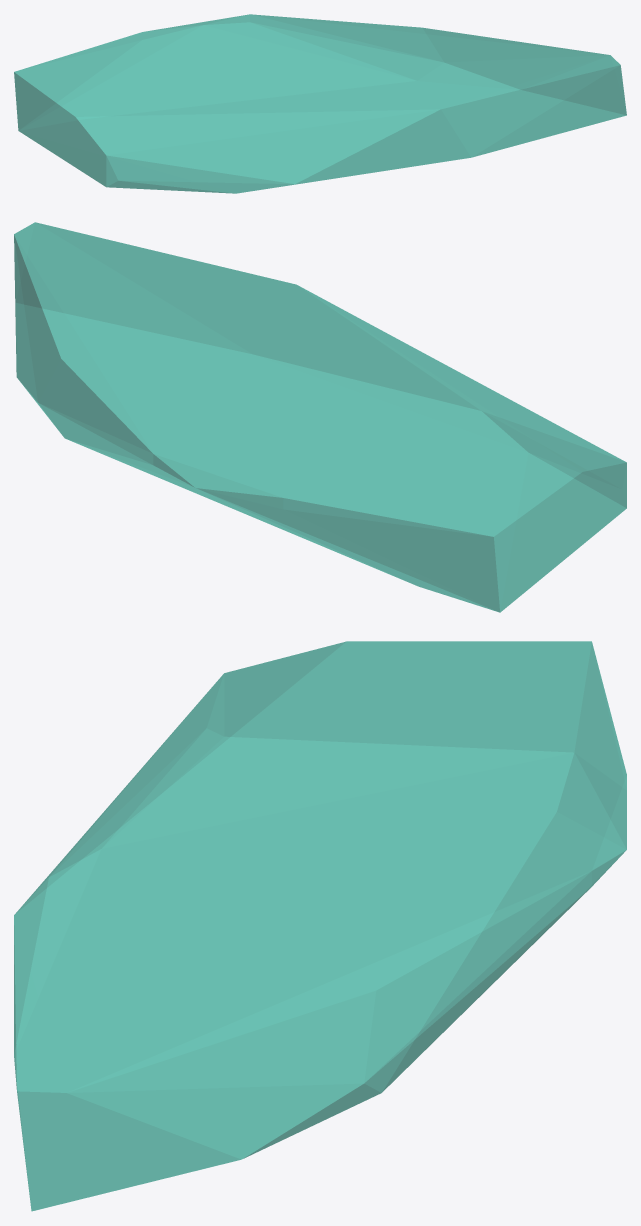
The picture shows the model from 3 angles, top to bottom: view 1: azimuth 30°, elevation 25°; view 2: azimuth 150°, elevation 25°; view 3: azimuth 270°, elevation 25°; orthographic projection. The views are drawn at different scales.
Visible parts, largest first — view 1: Shape_IndexedFaceSet.016_Shape_IndexedFaceSet.5692; view 2: Shape_IndexedFaceSet.016_Shape_IndexedFaceSet.5692; view 3: Shape_IndexedFaceSet.016_Shape_IndexedFaceSet.5692.
Boxes of the visible parts, box(x1,y1,x2,y2) form: Shape_IndexedFaceSet.016_Shape_IndexedFaceSet.5692: box(14, 14, 626, 193); Shape_IndexedFaceSet.016_Shape_IndexedFaceSet.5692: box(14, 222, 626, 612); Shape_IndexedFaceSet.016_Shape_IndexedFaceSet.5692: box(14, 641, 626, 1211).
Size of the model in its own units: 0.1958 by 0.0221 by 0.1105.
